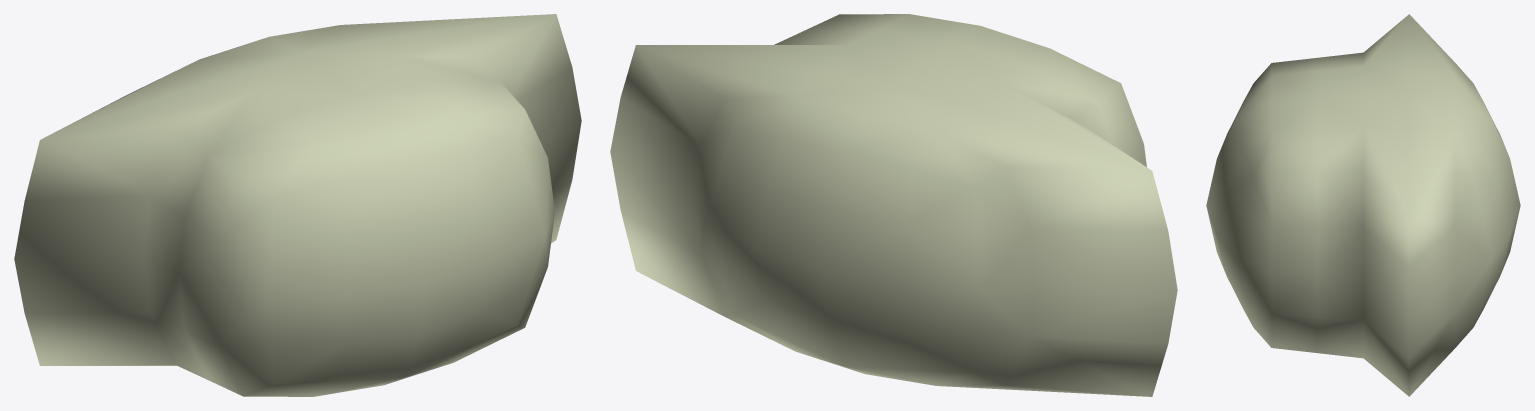
File: squaremorph1.obj
3 views of the same model, side by side, from view 1: azimuth 30°, elevation 25°; view 2: azimuth 150°, elevation 25°; view 3: azimuth 270°, elevation 25° (orthographic). The views are drawn at different scales.
Parts seen in each view (by area): view 1: Cube1; view 2: Cube1; view 3: Cube1.
Part boxes in pixels (box(x1,y1,x2,y2)): Cube1: box(14, 14, 581, 396); Cube1: box(610, 14, 1177, 396); Cube1: box(1206, 14, 1520, 396).
Bounding box in the file's own units: 1.57 × 0.75 × 0.9432.
